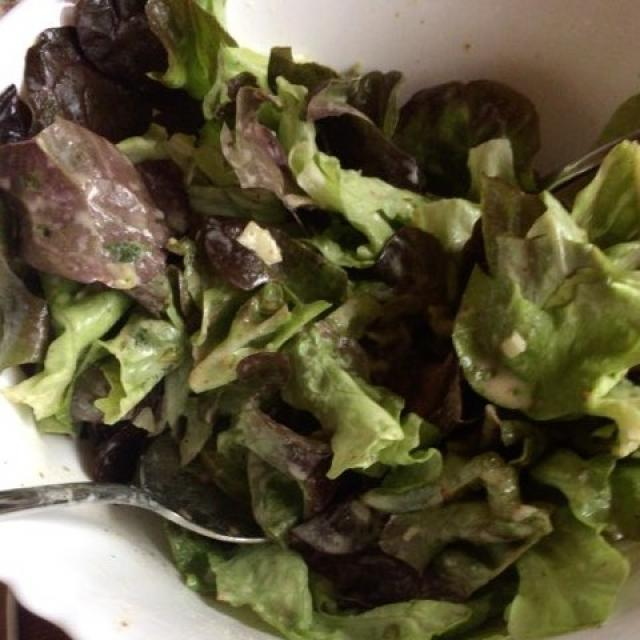salad: (15, 18, 634, 626)
